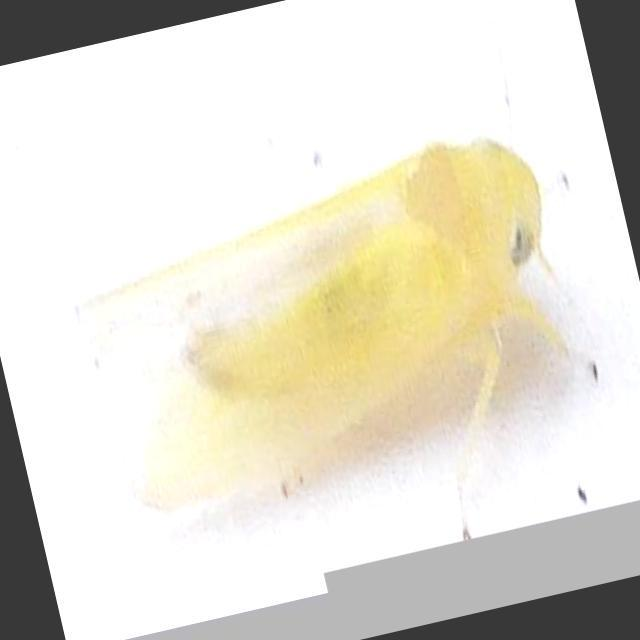green leaf hopper: (80, 141, 563, 509)
